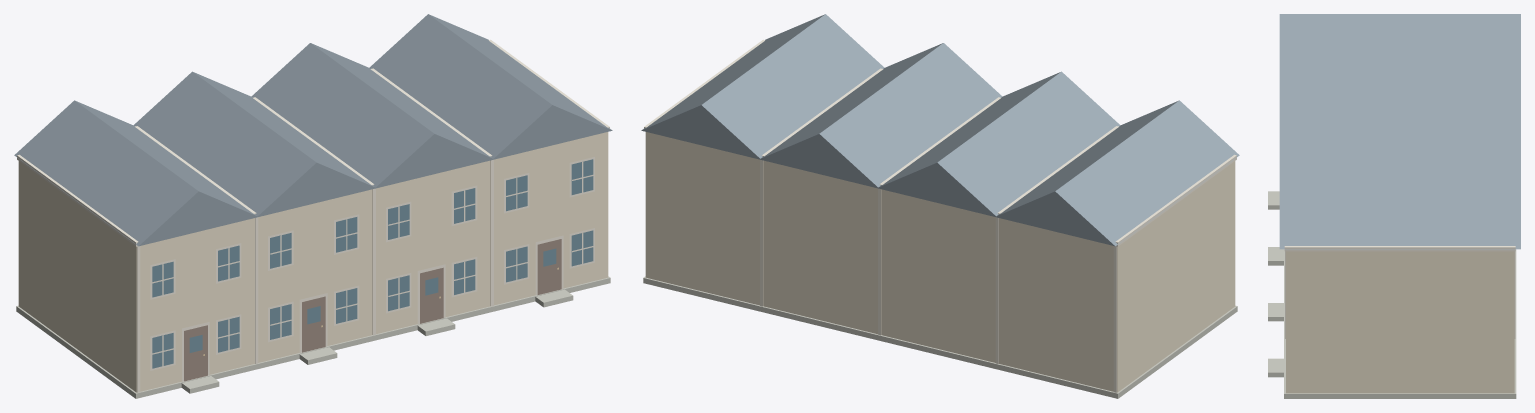
Rendered from townhouse-cream.glb.
3 renders of one model, left to right at view 1: azimuth 30°, elevation 25°; view 2: azimuth 150°, elevation 25°; view 3: azimuth 270°, elevation 25°, orthographic. The views are drawn at different scales.
Visible parts, largest first — view 1: townhouse-cream; view 2: townhouse-cream; view 3: townhouse-cream.
Part boxes in pixels (left/top/right/bottom): townhouse-cream: left=14, top=14, right=612, bottom=398; townhouse-cream: left=641, top=14, right=1239, bottom=398; townhouse-cream: left=1268, top=14, right=1520, bottom=398.
Bounding box in the file's own units: 20.94 × 8.2 × 9.95.
